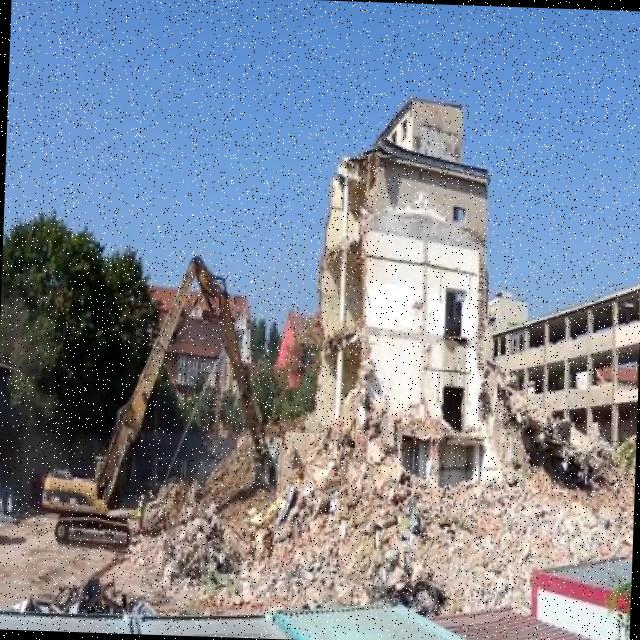Excavator: (37, 246, 285, 554)
